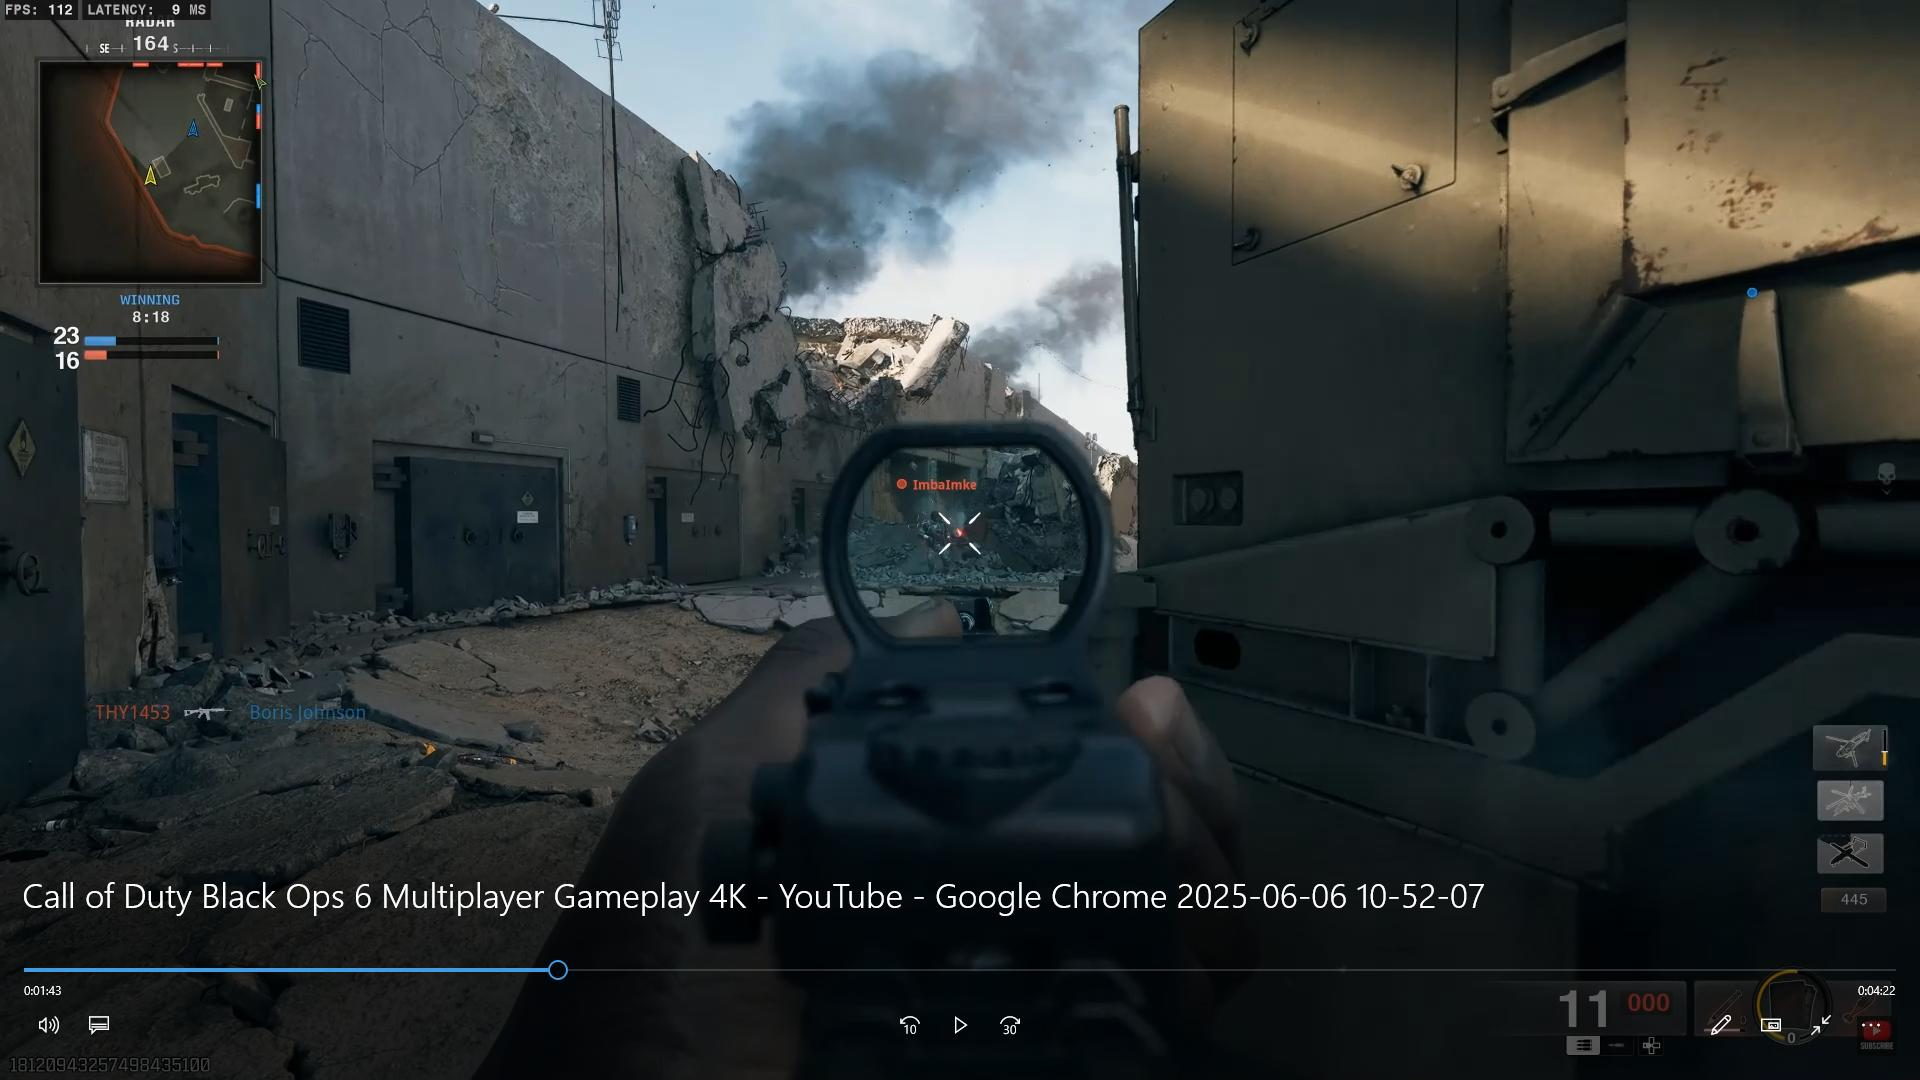Enemy: (898, 469, 976, 582)
